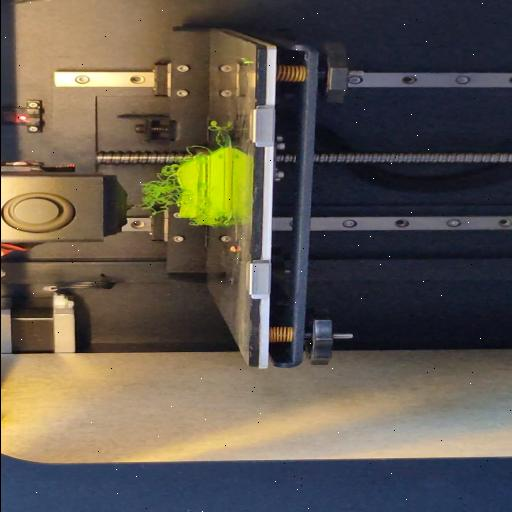spaghetti: (133, 164, 182, 218), (204, 120, 230, 148), (182, 142, 208, 154), (218, 216, 232, 226)
